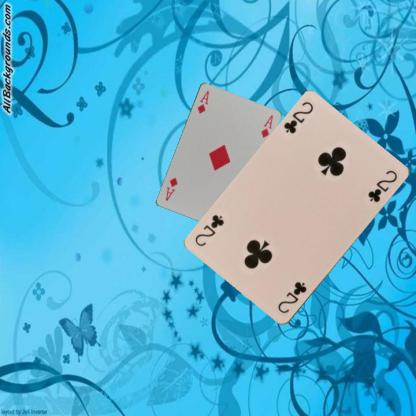2c: (281, 99, 315, 136), (275, 279, 308, 316)
Ad: (195, 88, 210, 114)
